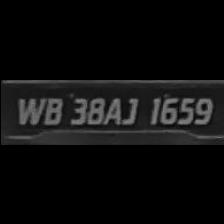3: (66, 86, 84, 126)
5: (176, 86, 194, 124)
6: (161, 86, 181, 125)
8: (84, 90, 107, 124)
9: (188, 90, 210, 124)
A: (106, 89, 122, 125)
B: (44, 88, 61, 127)
C: (120, 90, 144, 126), (146, 86, 166, 126)
W: (12, 90, 44, 124)
